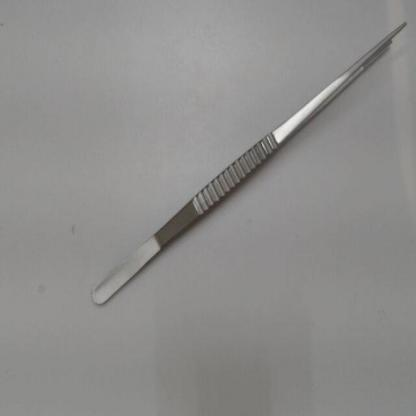DeBakey Dissector: (80, 6, 416, 338)
